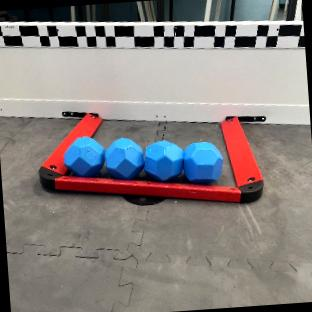Parking-R: (38, 112, 263, 202), (40, 113, 101, 186), (221, 116, 262, 201)
V5_BLUE: (63, 137, 104, 176), (183, 141, 222, 182), (105, 138, 143, 178)
